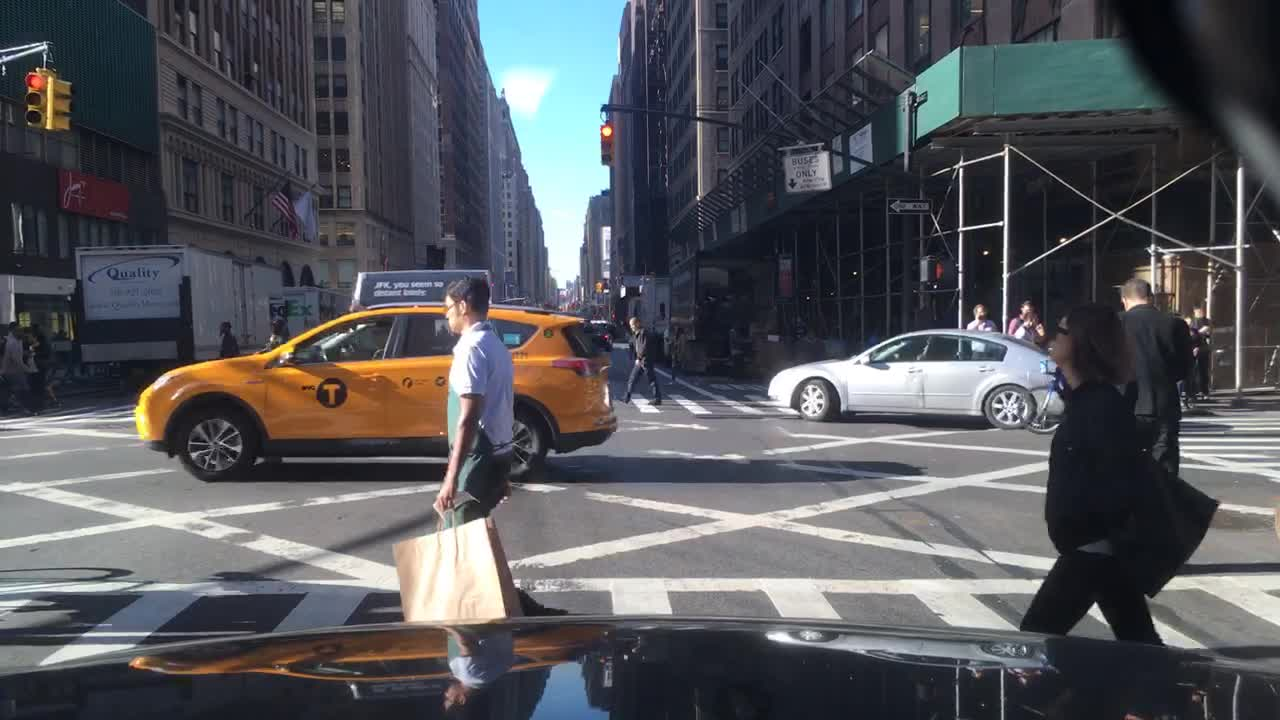bike: (1016, 356, 1071, 433)
car: (136, 269, 619, 482), (766, 326, 1069, 430), (588, 316, 619, 346)
person: (1019, 299, 1218, 645), (390, 275, 518, 624), (1112, 276, 1189, 475), (615, 311, 662, 406), (1182, 301, 1212, 402), (1, 325, 33, 415), (22, 328, 48, 417), (1005, 296, 1045, 343), (966, 302, 997, 333), (215, 319, 239, 358), (1013, 310, 1039, 345), (269, 317, 289, 344), (5, 320, 17, 343)
traffic light: (23, 67, 49, 129), (47, 68, 73, 129), (917, 255, 943, 283), (598, 121, 613, 165), (592, 279, 602, 294)
traffic sign: (783, 151, 830, 190), (886, 196, 930, 214)
truck: (71, 241, 288, 388), (660, 252, 796, 379), (281, 284, 349, 339), (637, 274, 669, 348), (615, 295, 645, 344)
